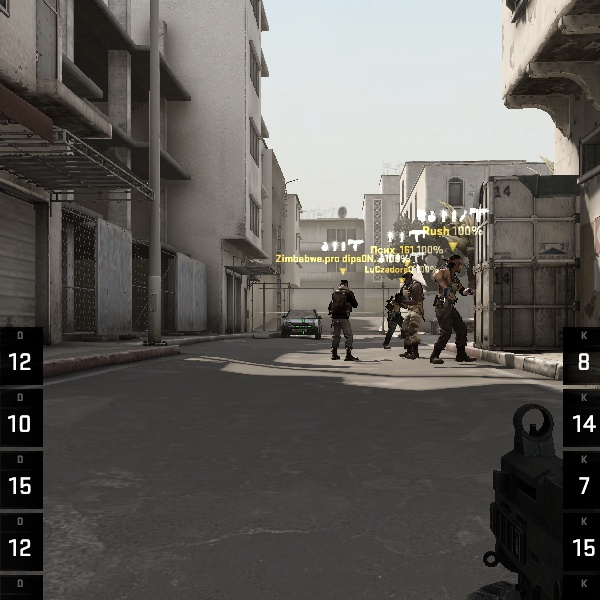t_body: (424, 256, 480, 363), (317, 276, 367, 361), (395, 273, 425, 358), (382, 291, 404, 351)
t_head: (335, 276, 353, 294), (447, 256, 463, 275), (401, 272, 414, 286)
